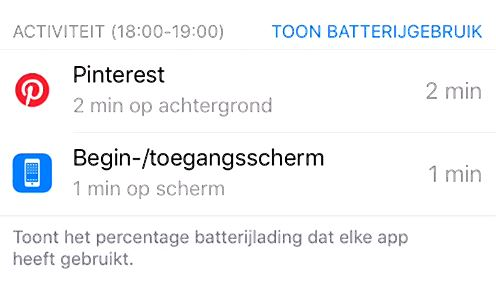activity: (7, 14, 231, 52)
app: (7, 67, 487, 133), (7, 140, 487, 206)
